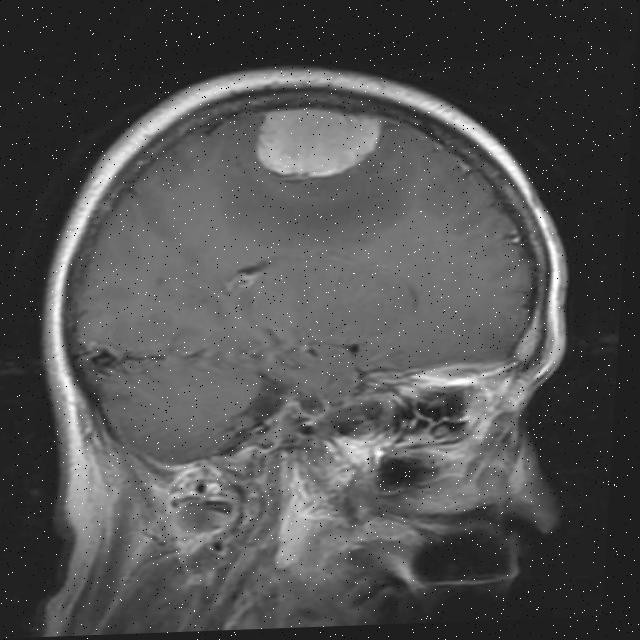Meningioma: (251, 100, 385, 181)
